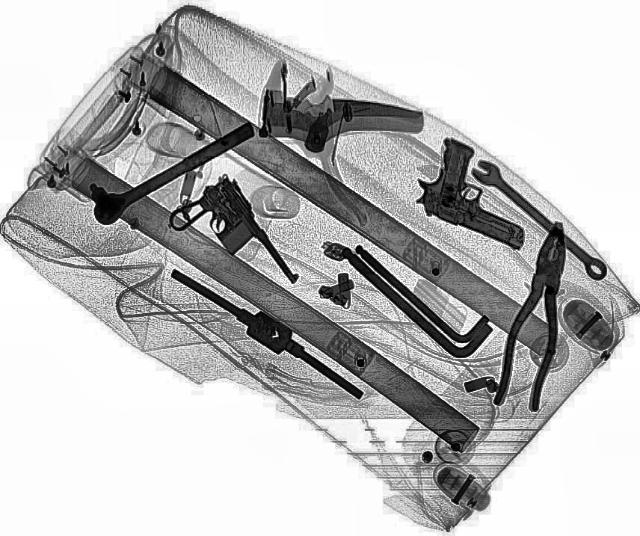Gun: (152, 172, 304, 308), (398, 133, 566, 251)
Pliers: (487, 218, 589, 412)
Wrench: (464, 154, 616, 284)
